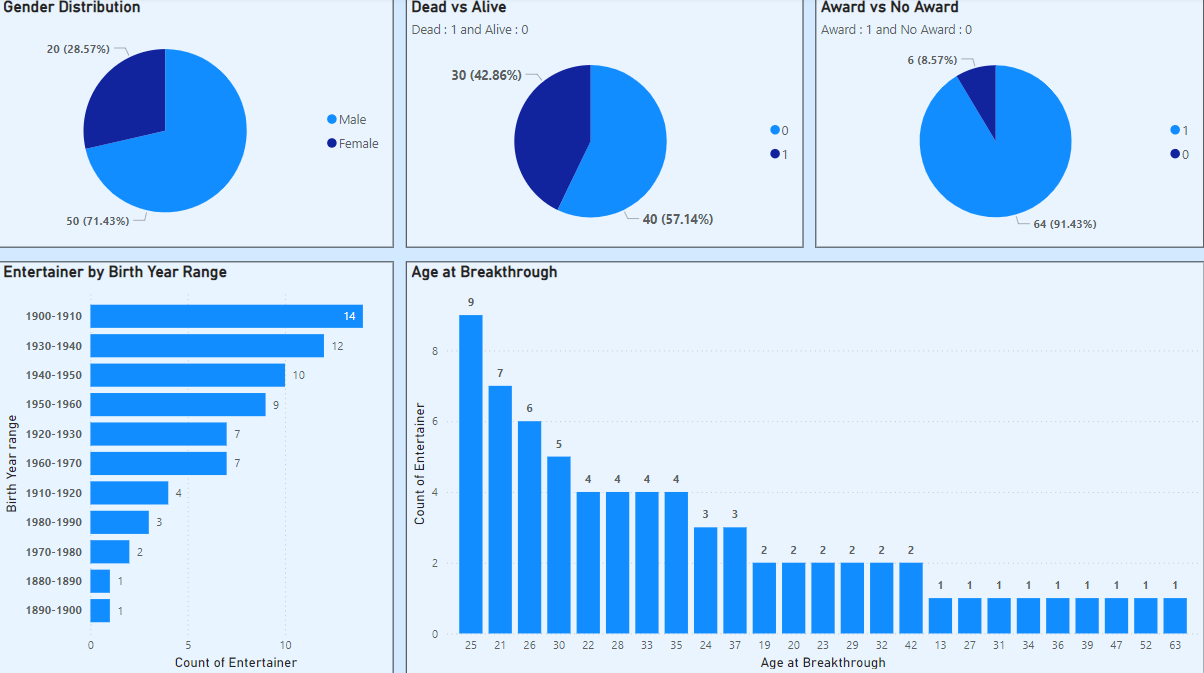

Layout of this report page (visuals, bound fields, positions):
{"tool":"powerbi","page":{"name":"Page 1","canvas":[1280,720],"ordinal":0},"visuals":[{"type":"pieChart","title":"Gender Distribution","fields":{"Category":["Basic Info.Gender (traditional)"],"Y":["CountNonNull(Basic Info.Gender (traditional))"]},"box":[0,0,419.5,266.5],"z":0},{"type":"clusteredBarChart","title":"Entertainer by Birth Year Range","fields":{"Category":["Basic Info.Age range"],"Y":["CountNonNull(Basic Info.Entertainer)"]},"box":[0,281.6,419.5,438.4],"z":1000},{"type":"pieChart","title":"Dead vs Alive","fields":{"Category":["Last work info.Dead or Alive"],"Y":["CountNonNull(Last work info.Dead or Alive)"]},"box":[432.8,0,421.4,266.5],"z":2000},{"type":"pieChart","title":"Award vs No Award ","fields":{"Category":["Breakthrough info.Award or not"],"Y":["CountNonNull(Breakthrough info.Award or not)"]},"box":[867.4,0,412,266.5],"z":3000},{"type":"clusteredColumnChart","title":"Age at Breakthrough ","fields":{"Y":["CountNonNull(Breakthrough info.Age at Breakthrough)"],"Category":["Breakthrough info.Age at Breakthrough"]},"box":[432.8,281.6,846.6,438.4],"z":4000}]}

Visuals, with their boxes in screenshot pixels (x1, y1, x2, y2), scaled from the page's 1280x720 canvas onto the 1204x673 screenshot:
"Gender Distribution" pieChart: x1=0 y1=0 x2=395 y2=249
"Entertainer by Birth Year Range" clusteredBarChart: x1=0 y1=263 x2=395 y2=672
"Dead vs Alive" pieChart: x1=407 y1=0 x2=803 y2=249
"Award vs No Award " pieChart: x1=816 y1=0 x2=1203 y2=249
"Age at Breakthrough " clusteredColumnChart: x1=407 y1=263 x2=1203 y2=672
